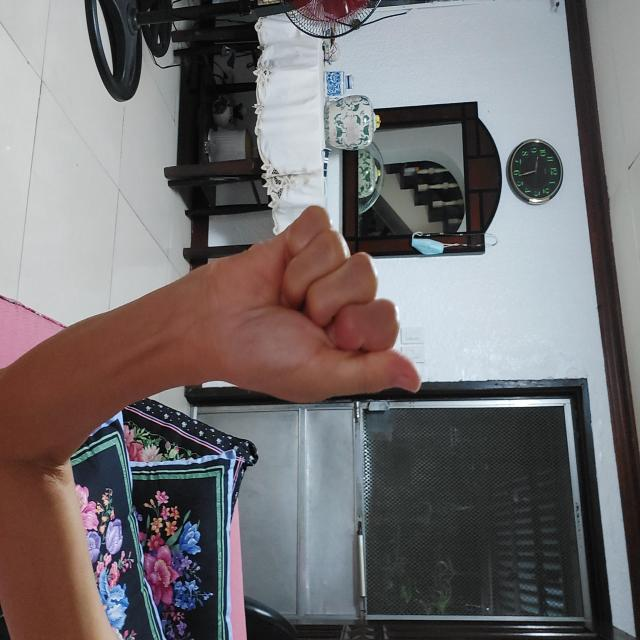A: (205, 218, 405, 433)
